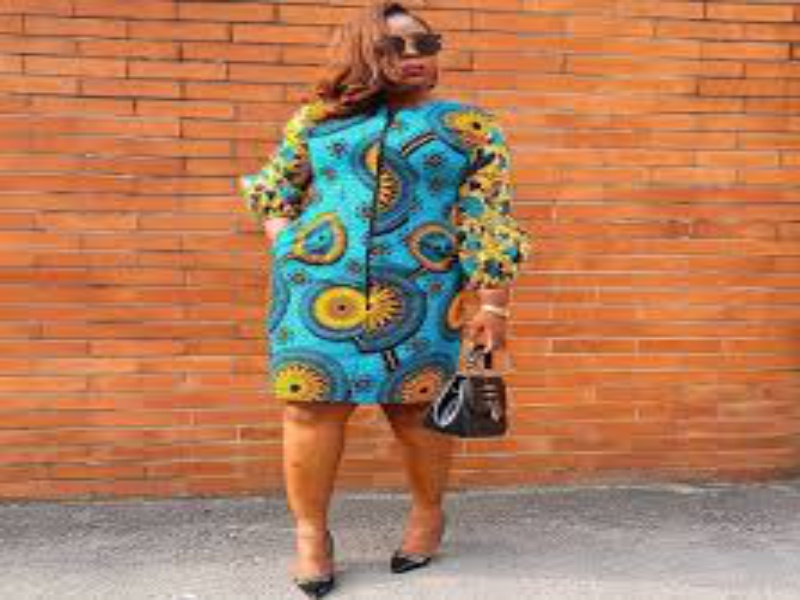TsisyArotava: (338, 4, 457, 98)
